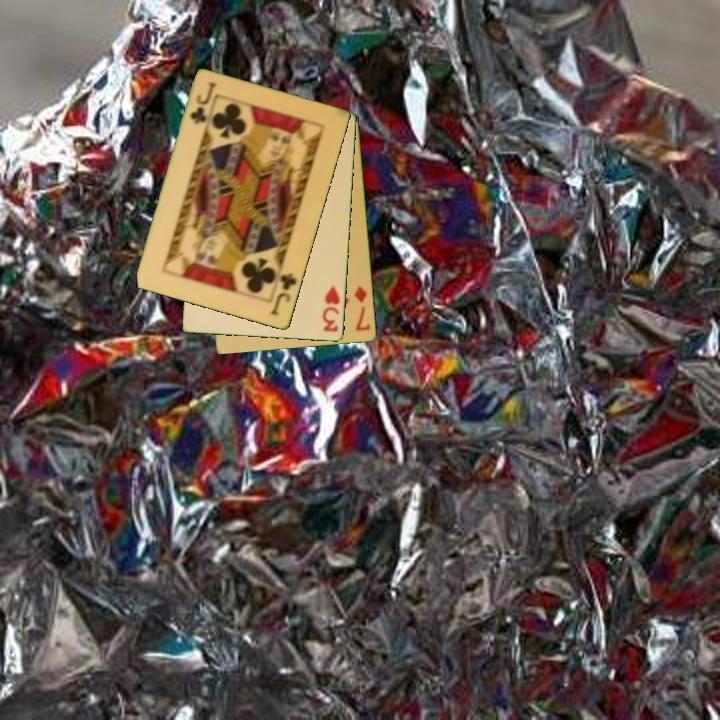3h: (319, 283, 343, 335)
7d: (351, 282, 374, 334)
Jc: (268, 270, 299, 319), (187, 78, 218, 127)
